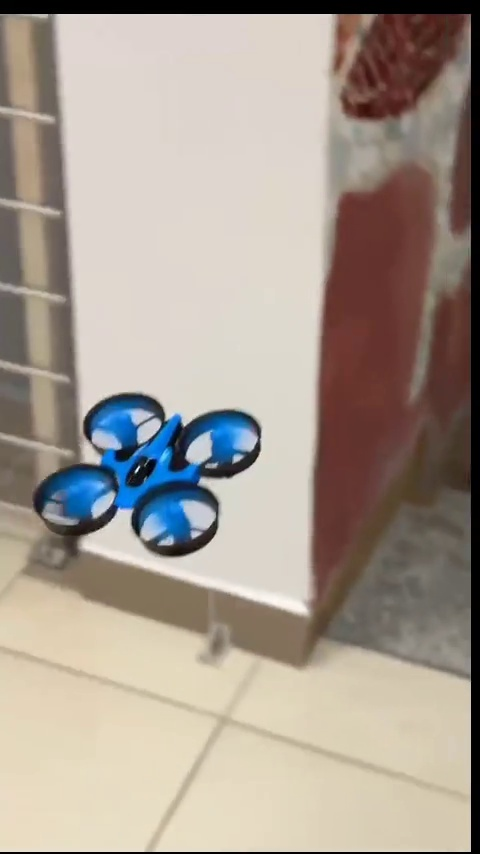drone: (38, 389, 263, 540)
